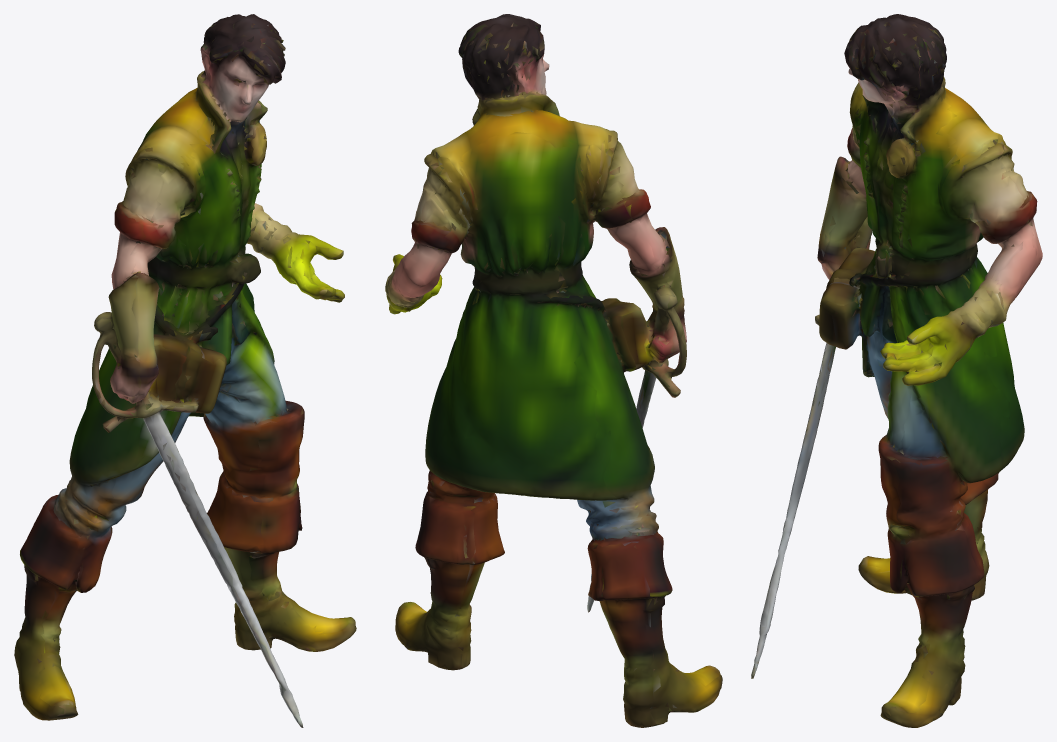
File: Dath_final.glb
3 views of the same model, side by side, from view 1: azimuth 30°, elevation 25°; view 2: azimuth 150°, elevation 25°; view 3: azimuth 270°, elevation 25° (orthographic). The views are drawn at different scales.
Visible parts, largest first — view 1: Mesh1.0; view 2: Mesh1.0; view 3: Mesh1.0.
Boxes of the visible parts, x1,y1,x2,y2 form: Mesh1.0: (14, 14, 356, 727); Mesh1.0: (385, 14, 722, 727); Mesh1.0: (751, 14, 1042, 727).
Size of the model in its own units: 0.9243 by 1.8 by 0.7146.
1 material, 1 textured.
